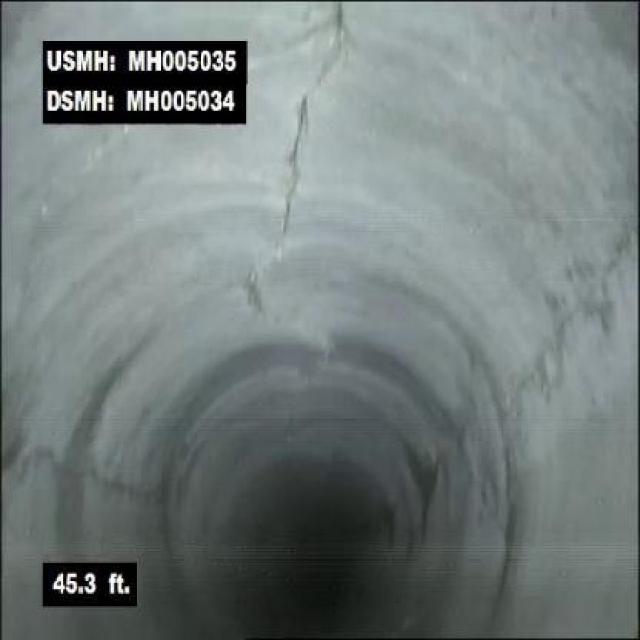Crack: (269, 8, 349, 229), (540, 229, 632, 369)
